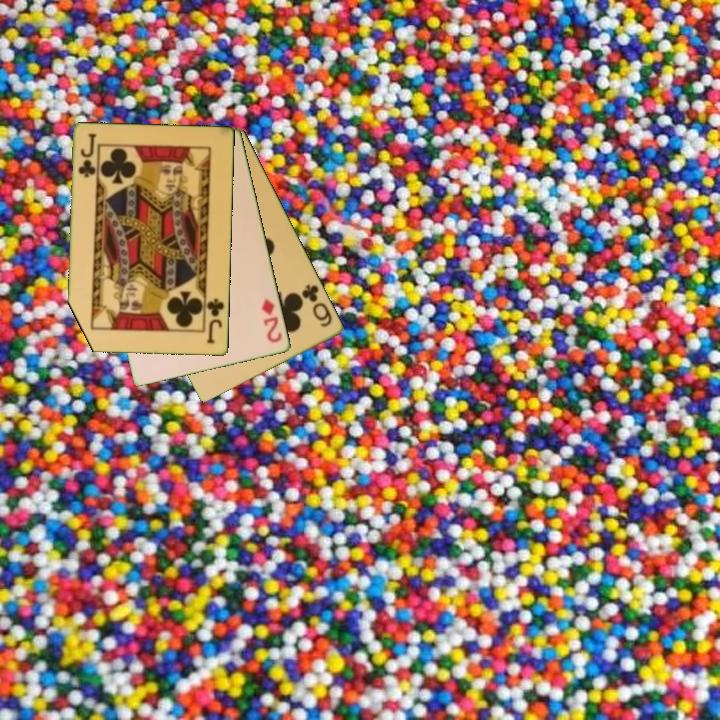2d: (258, 295, 285, 346)
6c: (298, 281, 335, 330)
Jc: (203, 295, 227, 347), (75, 130, 99, 181)
